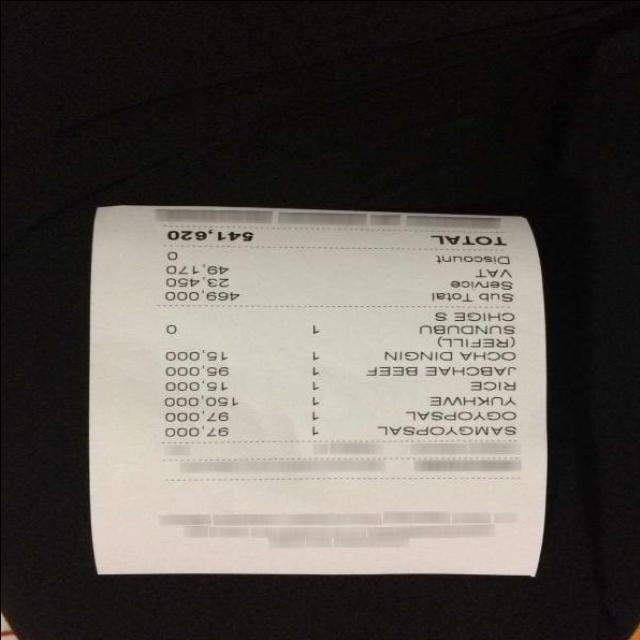kertas: (88, 205, 546, 574)
